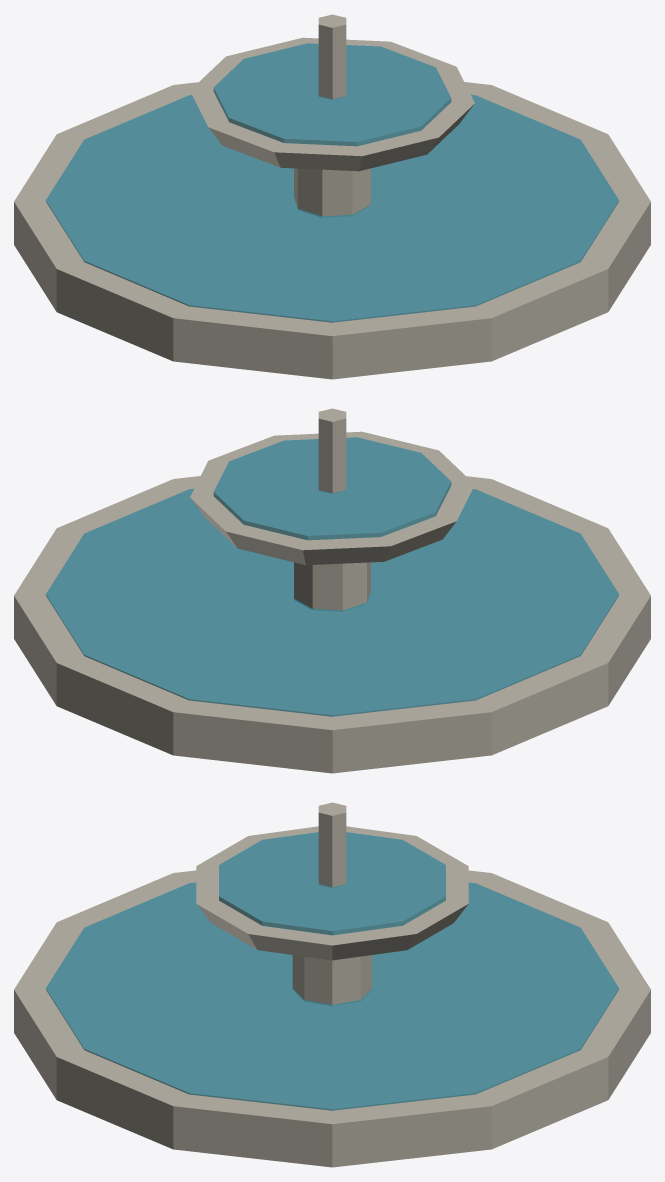
File: fountain.glb
3 views of the same model, one above another, from view 1: azimuth 30°, elevation 25°; view 2: azimuth 150°, elevation 25°; view 3: azimuth 270°, elevation 25° (orthographic).
Visible parts, largest first — view 1: fountain; view 2: fountain; view 3: fountain.
Part boxes in pixels (<box>): fountain: <box>14,14,650,379</box>; fountain: <box>14,408,650,773</box>; fountain: <box>14,802,650,1167</box>.
Bounding box in the file's own units: 8 × 3.1 × 8.
